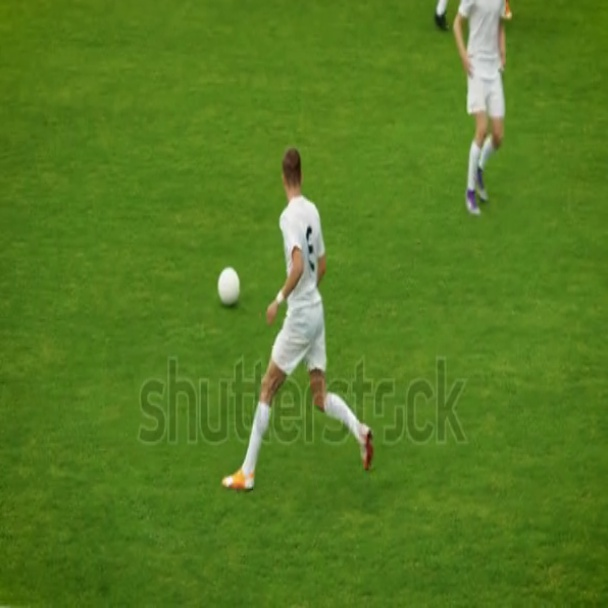ball: (220, 266, 238, 296)
